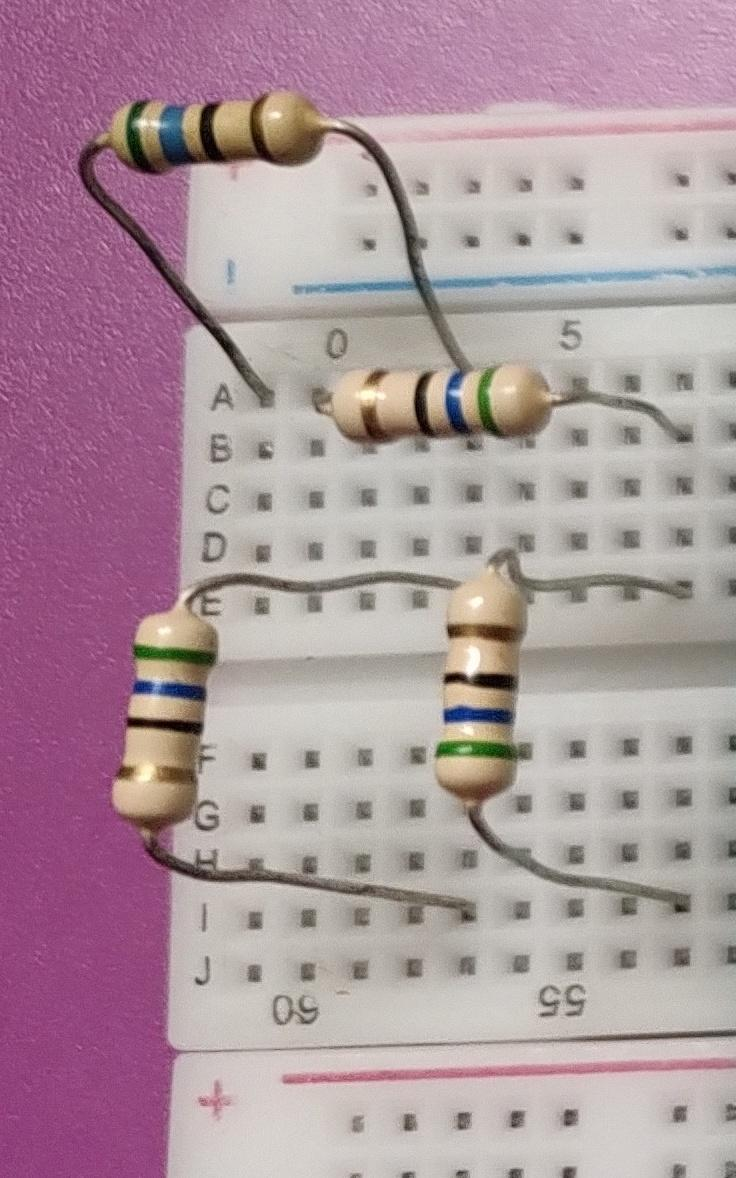resistor: (323, 323, 582, 487), (88, 591, 228, 853), (418, 543, 525, 848), (98, 73, 349, 200)
